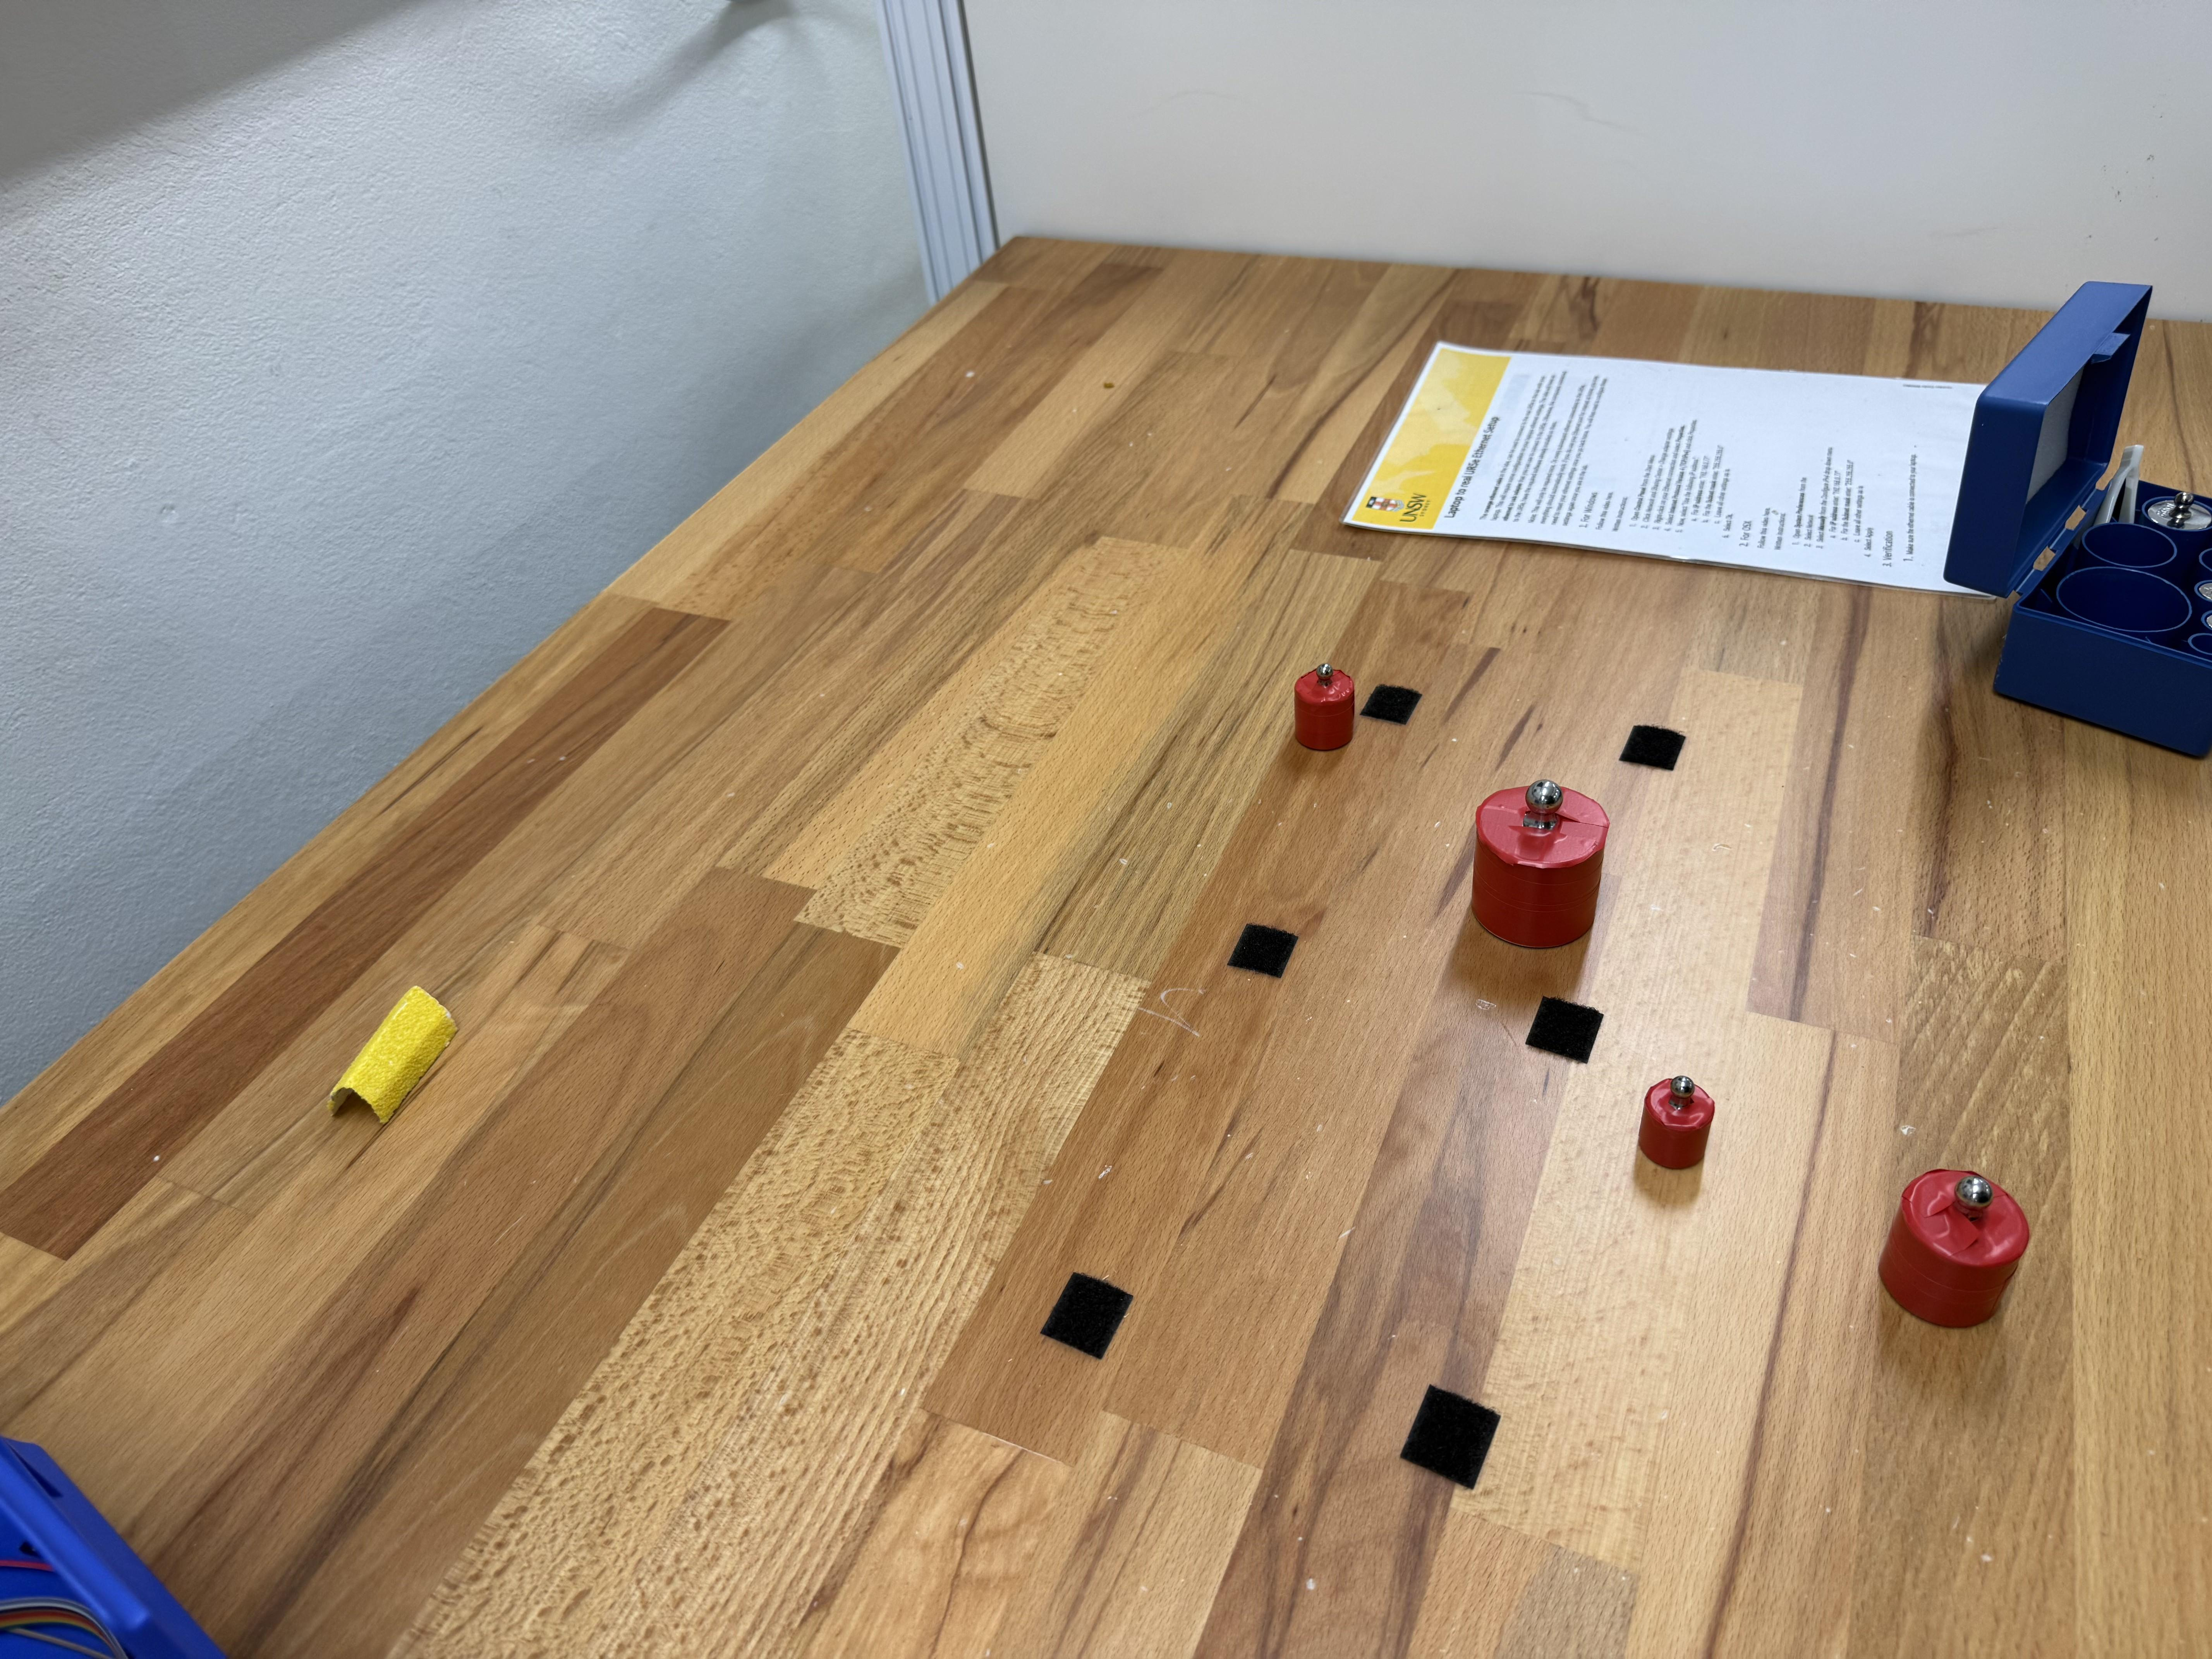red_object: (1878, 1150, 2043, 1331), (1468, 775, 1602, 972), (1289, 643, 1362, 770), (1630, 1073, 1717, 1176)
